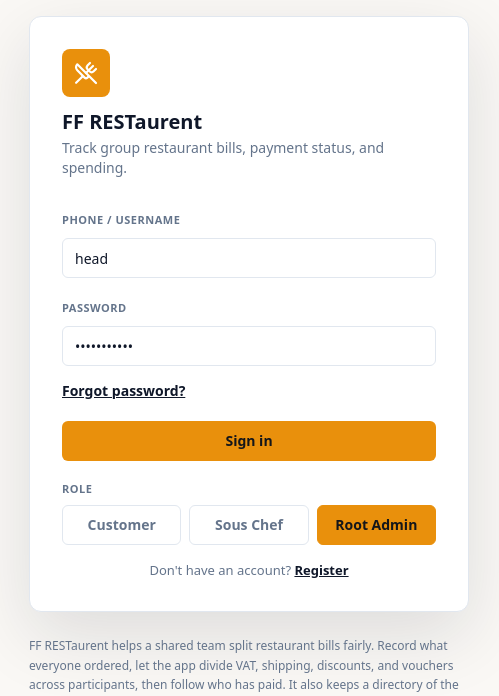
Test: LoginPage › keeps invalid Vietnamese mobile numbers inline and blocks registration
Click the button "Register". click: (322, 570)
box: [294,561,349,579]
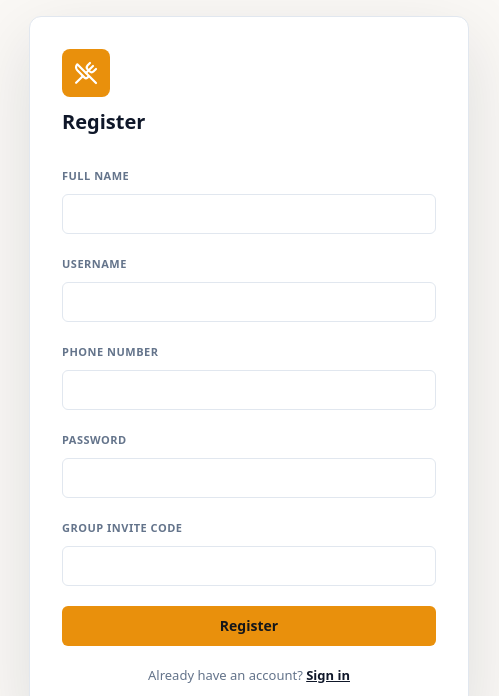
Type "+12025550123" into the field labelled "Phone number". click: (249, 390)
box: [62,370,436,410]
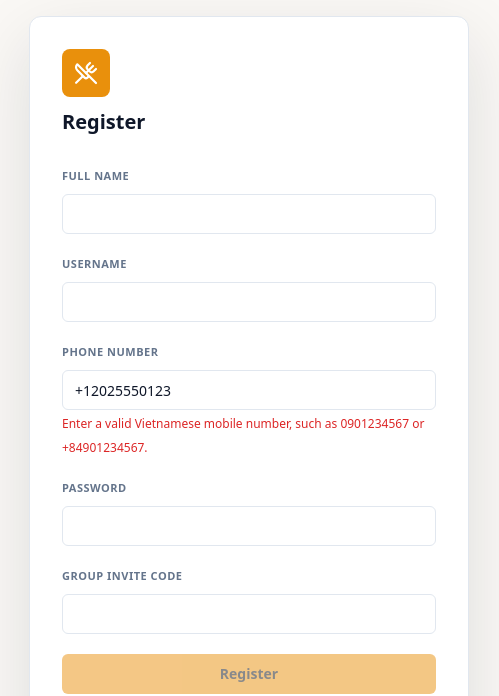
Check: the message shows "valid Vietnamese mobile number", box [62,415,424,456]
Check: the button "Register" is disabled, box [62,654,436,694]
